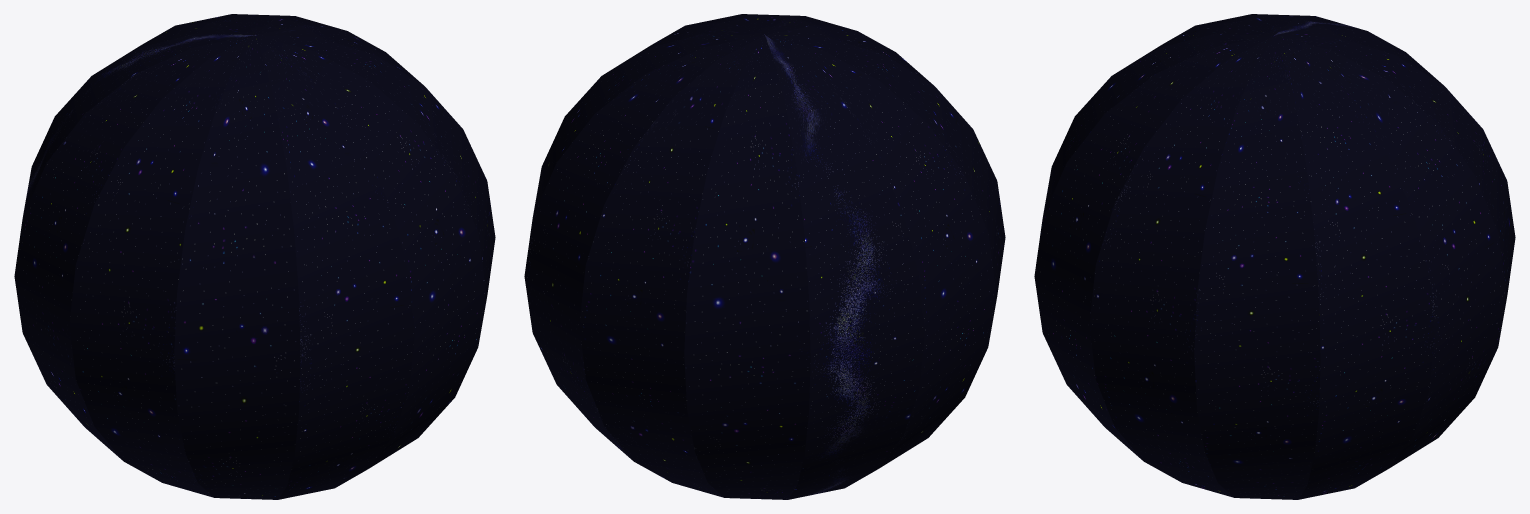
The model's file is mini2_course.dae.
The picture shows the model from 3 angles, left to right: view 1: azimuth 30°, elevation 25°; view 2: azimuth 150°, elevation 25°; view 3: azimuth 270°, elevation 25°; orthographic projection.
Parts seen in each view (by area): view 1: n7b0; view 2: n7b0; view 3: n7b0.
Boxes of the visible parts, x1,y1,x2,y2 form: n7b0: (14,14,495,499); n7b0: (524,14,1005,499); n7b0: (1034,14,1515,499).
Bounding box in the file's own units: 98246 × 100000 × 98246.
8 materials, 8 textured.
